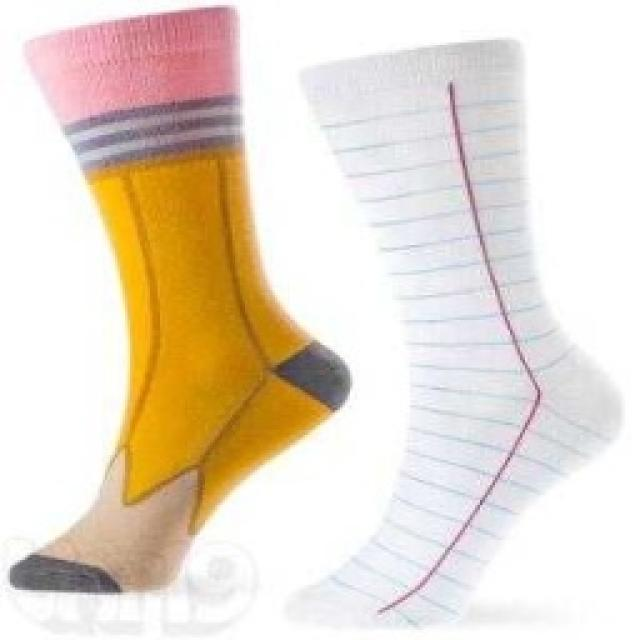pencil: (5, 0, 355, 598)
